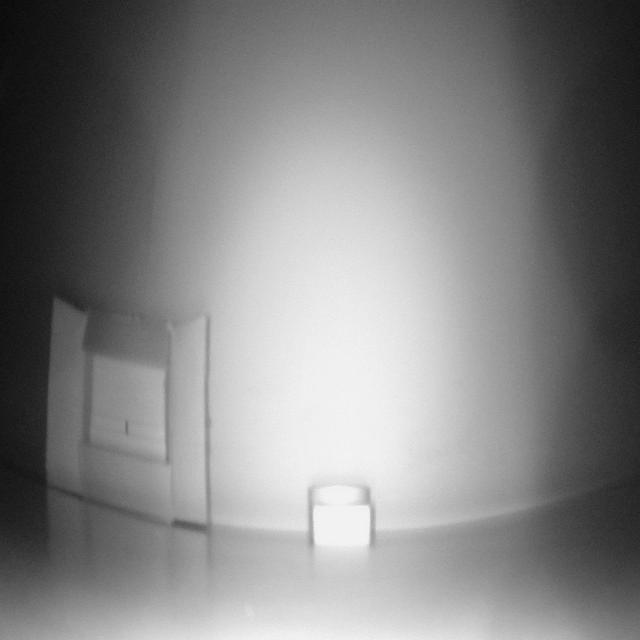targets: (49, 307, 216, 512), (309, 482, 376, 545), (312, 507, 372, 553)
